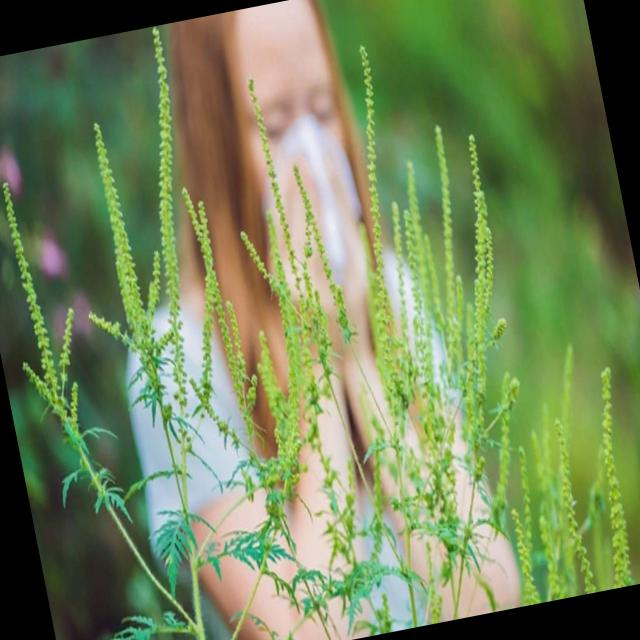ambrosia: (414, 91, 618, 608), (123, 15, 298, 472), (316, 4, 470, 467), (226, 65, 372, 414), (0, 115, 116, 490), (64, 94, 175, 426), (582, 367, 640, 531)
